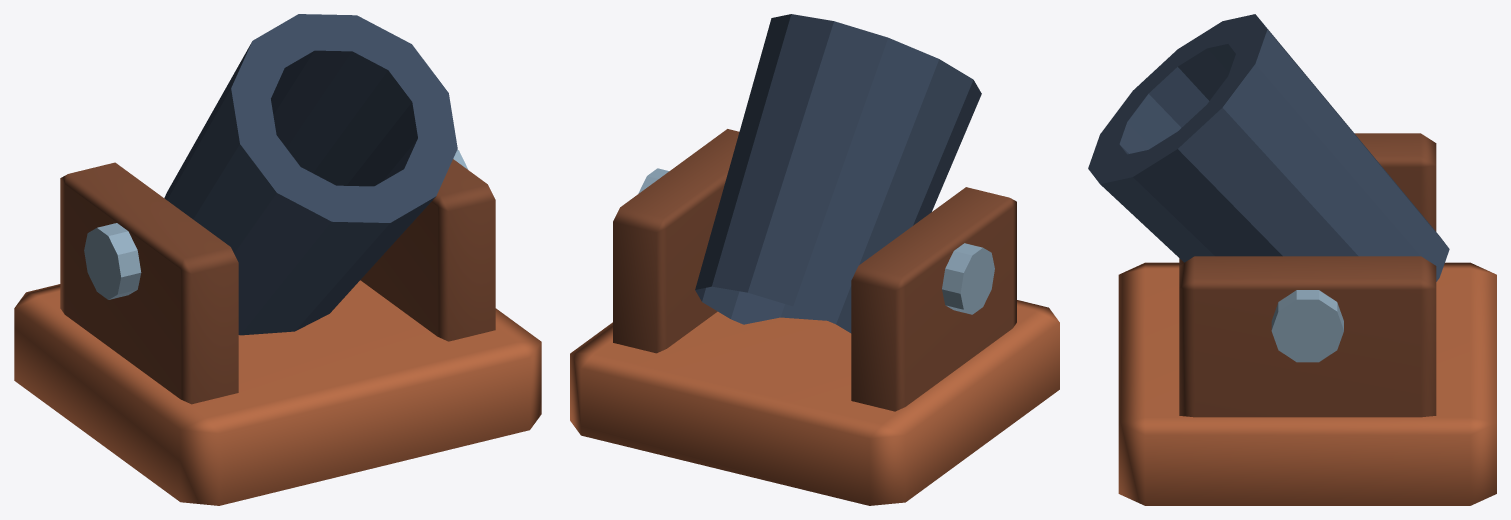
Rendered from deck_mortar.glb.
3 views of the same model, side by side, from view 1: azimuth 30°, elevation 25°; view 2: azimuth 150°, elevation 25°; view 3: azimuth 270°, elevation 25° (orthographic). The views are drawn at different scales.
Parts seen in each view (by area): view 1: Mortar mounting, Mortar barrel, Mortar cheeks, Mortar cheeks.001, Mount pin; view 2: Mortar mounting, Mortar barrel, Mortar cheeks, Mortar cheeks.001, Mount pin; view 3: Mortar barrel, Mortar mounting, Mortar cheeks.001, Mount pin.001, Mortar cheeks.
Part boxes in pixels (<box>): Mortar mounting: <box>14,280,541,505</box>; Mortar barrel: <box>164,14,457,335</box>; Mortar cheeks: <box>60,162,238,404</box>; Mortar cheeks.001: <box>360,159,495,341</box>; Mount pin: <box>84,223,141,299</box>; Mortar mounting: <box>570,300,1059,505</box>; Mortar barrel: <box>695,14,981,333</box>; Mortar cheeks: <box>851,187,1016,411</box>; Mortar cheeks.001: <box>613,129,739,353</box>; Mount pin: <box>942,243,994,314</box>; Mortar barrel: <box>1088,14,1449,281</box>; Mortar mounting: <box>1118,262,1496,505</box>; Mortar cheeks.001: <box>1179,256,1436,417</box>; Mount pin.001: <box>1271,290,1343,362</box>; Mortar cheeks: <box>1179,133,1436,265</box>.
Size of the model in its own units: 1.35 by 1.44 by 1.35.
